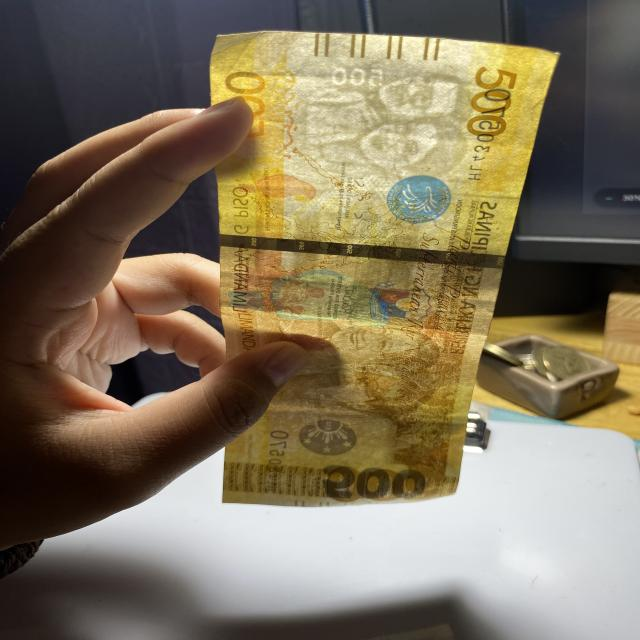500_big_parrot: (225, 267, 418, 329)
500_parrot_watermark: (240, 172, 316, 207)
value_watermark: (326, 59, 387, 88)
watermark: (295, 66, 459, 174)
